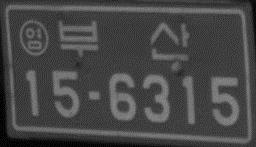-: (86, 88, 102, 102)
1: (179, 74, 200, 125), (22, 67, 42, 117)
3: (141, 73, 172, 124)
5: (209, 75, 240, 127), (50, 68, 81, 117)
6: (107, 71, 136, 120)
부산_D: (56, 17, 190, 64)
영: (18, 19, 50, 56)
